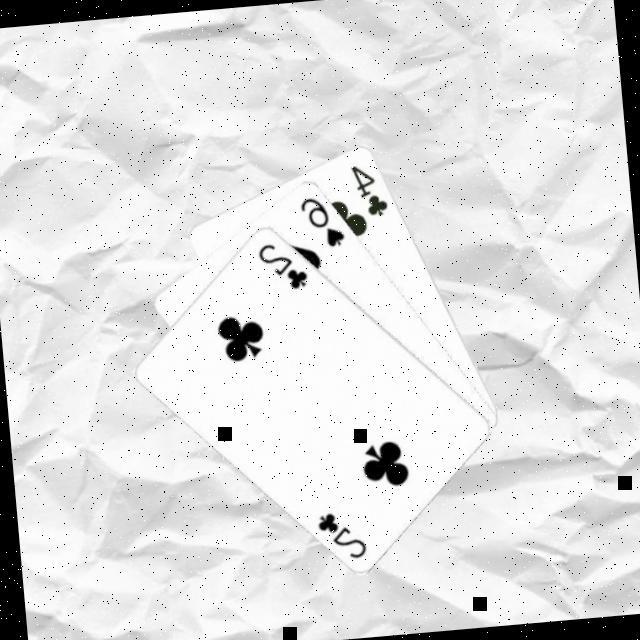2C: (313, 503, 372, 563), (254, 234, 313, 293)
4C: (347, 156, 392, 218)
6S: (296, 188, 349, 250)
